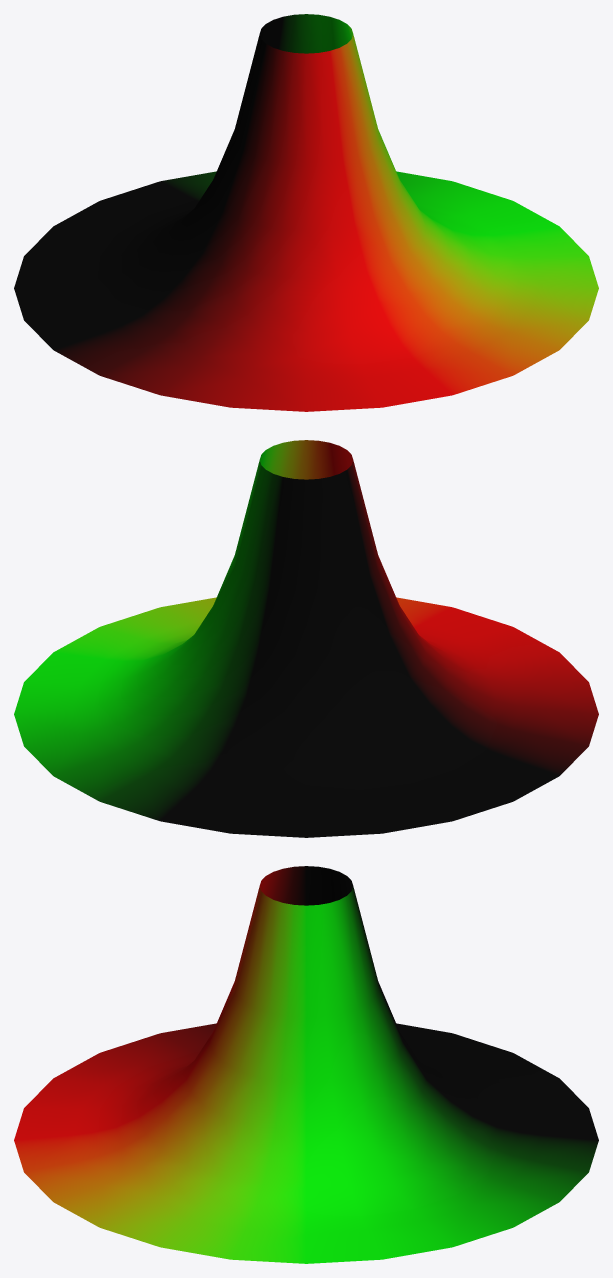
File: uni_funnel.fbx
3 renders of one model, top to bottom at view 1: azimuth 30°, elevation 25°; view 2: azimuth 150°, elevation 25°; view 3: azimuth 270°, elevation 25°, orthographic.
Parts seen in each view (by area): view 1: uni_funnel; view 2: uni_funnel; view 3: uni_funnel.
Boxes of the visible parts, left/top/right/bottom form: uni_funnel: left=14, top=14, right=598, bottom=411; uni_funnel: left=14, top=440, right=598, bottom=837; uni_funnel: left=14, top=866, right=598, bottom=1263.
Bounding box in the file's own units: 20000 × 9600 × 20000.
